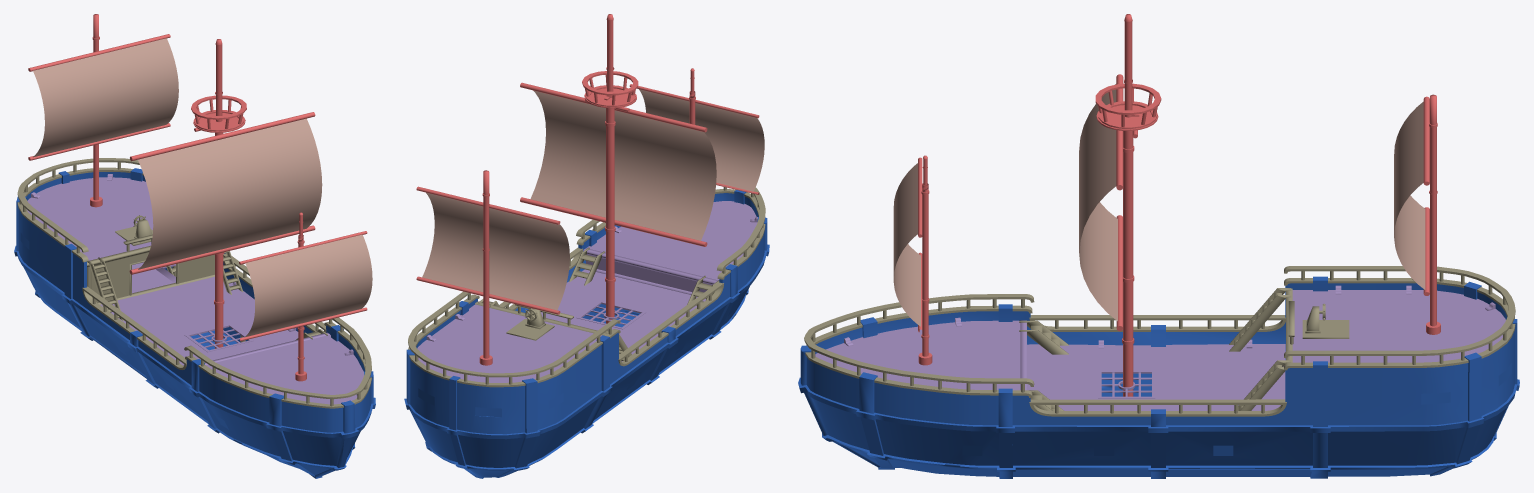
File: Boat.fbx
3 views of the same model, side by side, from view 1: azimuth 30°, elevation 25°; view 2: azimuth 150°, elevation 25°; view 3: azimuth 270°, elevation 25° (orthographic). The views are drawn at different scales.
Parts seen in each view (by area): view 1: StylShip_Body, StylShip_SailMid1, StylShip_SailFront.001, StylShip_SailFront, done2, done3, done7, done14, done6, done9, done4, done5 (+5 smaller); view 2: StylShip_Body, StylShip_SailMid1, StylShip_SailFront.001, done7, done3, done14, done2, StylShip_SailFront, done4, done12, done5, done6 (+4 smaller); view 3: StylShip_Body, done2, done3, done7, done14, StylShip_SailMid1, done5, done4, done6, StylShip_SailFront.001, StylShip_SailFront, done12 (+4 smaller).
Boxes of the visible parts, bbox=[...] form: StylShip_Body: bbox=[14, 168, 375, 478]; StylShip_SailMid1: bbox=[138, 118, 322, 269]; StylShip_SailFront.001: bbox=[33, 38, 178, 157]; StylShip_SailFront: bbox=[244, 234, 372, 337]; done2: bbox=[100, 276, 298, 365]; done3: bbox=[27, 174, 153, 260]; done7: bbox=[204, 332, 363, 404]; done14: bbox=[129, 39, 315, 348]; done6: bbox=[184, 317, 371, 408]; done9: bbox=[87, 245, 214, 304]; done4: bbox=[17, 158, 143, 262]; done5: bbox=[82, 253, 326, 369]; StylShip_Body: bbox=[404, 190, 769, 478]; StylShip_SailMid1: bbox=[530, 90, 716, 240]; StylShip_SailFront.001: bbox=[422, 192, 569, 310]; done7: bbox=[583, 201, 757, 294]; done3: bbox=[417, 304, 601, 382]; done14: bbox=[520, 14, 707, 323]; done2: bbox=[527, 269, 705, 361]; StylShip_SailFront: bbox=[639, 89, 764, 192]; done4: bbox=[408, 291, 620, 387]; done12: bbox=[416, 170, 560, 365]; done5: bbox=[499, 247, 723, 366]; done6: bbox=[576, 187, 765, 279]; StylShip_Body: bbox=[798, 276, 1519, 478]; done2: bbox=[1027, 339, 1285, 410]; done3: bbox=[1292, 285, 1505, 362]; done7: bbox=[815, 317, 1026, 390]; done14: bbox=[1095, 14, 1161, 396]; StylShip_SailMid1: bbox=[1079, 84, 1117, 321]; done5: bbox=[1029, 315, 1286, 416]; done4: bbox=[1284, 266, 1515, 370]; done6: bbox=[804, 294, 1034, 397]; StylShip_SailFront.001: bbox=[1394, 101, 1425, 289]; StylShip_SailFront: bbox=[893, 163, 920, 326]; done12: bbox=[1423, 94, 1440, 334].
Bounding box in the file's own units: 28.07 × 53.47 × 77.26.
